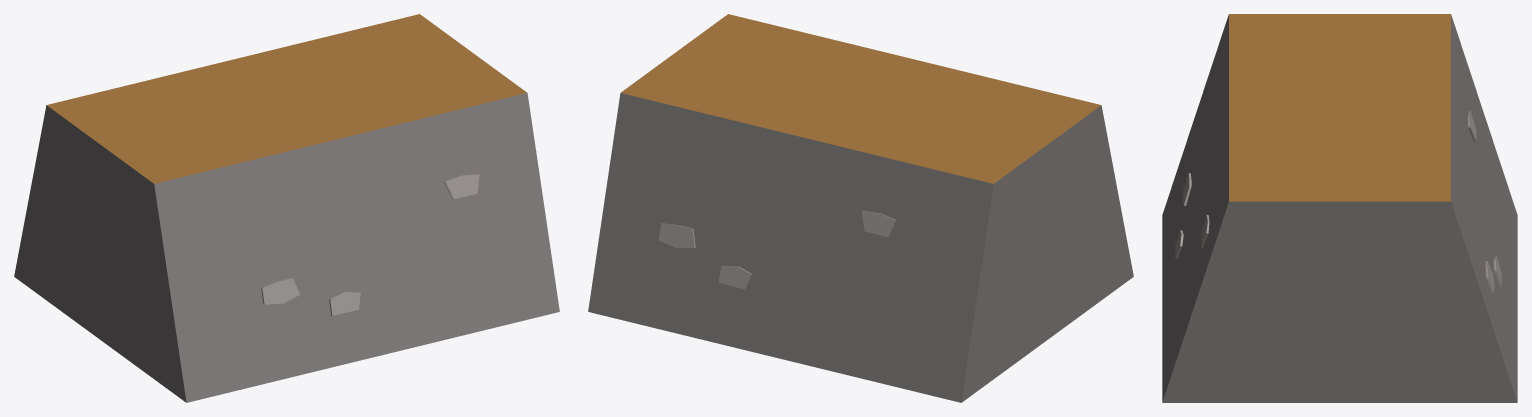
File: base-japan-small.glb
The picture shows the model from 3 angles, left to right: view 1: azimuth 30°, elevation 25°; view 2: azimuth 150°, elevation 25°; view 3: azimuth 270°, elevation 25°; orthographic projection. The views are drawn at different scales.
Parts seen in each view (by area): view 1: base-japan_small; view 2: base-japan_small; view 3: base-japan_small.
Boxes of the visible parts, x1,y1,x2,y2 form: base-japan_small: (14, 14, 559, 402); base-japan_small: (588, 14, 1133, 402); base-japan_small: (1162, 14, 1517, 402).
Size of the model in its own units: 10 by 5 by 8.
1 material, 1 textured.
